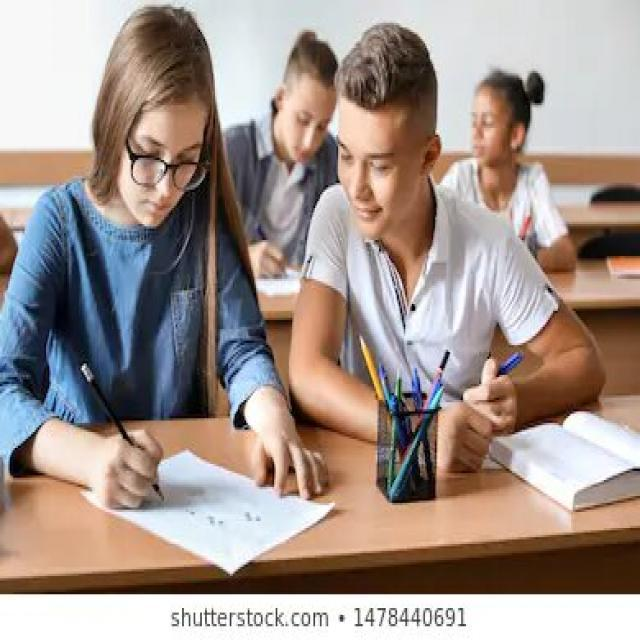cheating: (342, 0, 640, 526)
good: (0, 0, 345, 598)
